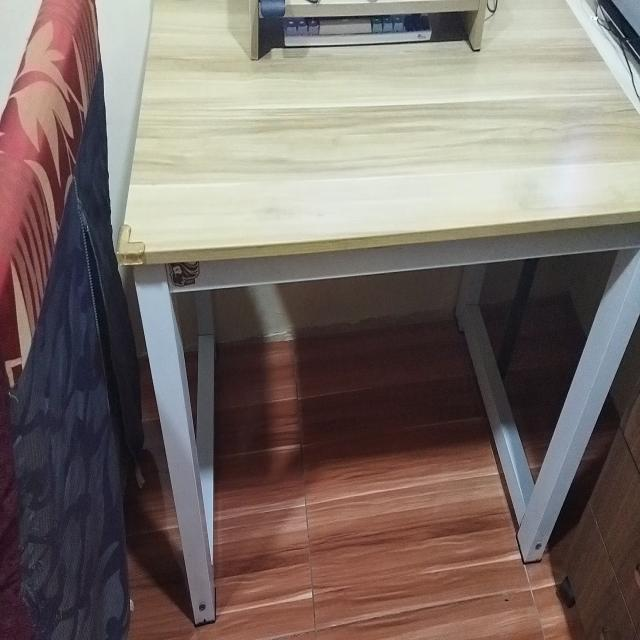table: (112, 0, 640, 621)
